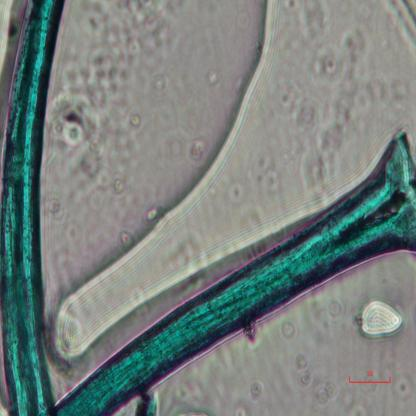Air bubble: (118, 3, 272, 260), (51, 251, 121, 360), (358, 298, 405, 338)
Background material: (77, 0, 178, 117), (300, 22, 373, 107), (294, 100, 338, 188), (47, 93, 101, 152), (244, 136, 290, 198), (80, 150, 116, 206), (381, 0, 416, 46), (42, 190, 68, 223), (295, 350, 314, 388), (324, 298, 347, 324), (392, 375, 414, 402), (315, 382, 340, 405), (190, 134, 208, 164), (226, 181, 248, 205), (200, 65, 225, 85), (280, 320, 298, 343), (116, 229, 134, 251), (248, 382, 265, 404), (235, 9, 250, 30), (142, 209, 161, 224), (113, 178, 128, 192), (134, 114, 144, 128)
Microfibre: (51, 134, 416, 415), (0, 0, 68, 416), (138, 394, 160, 414)
